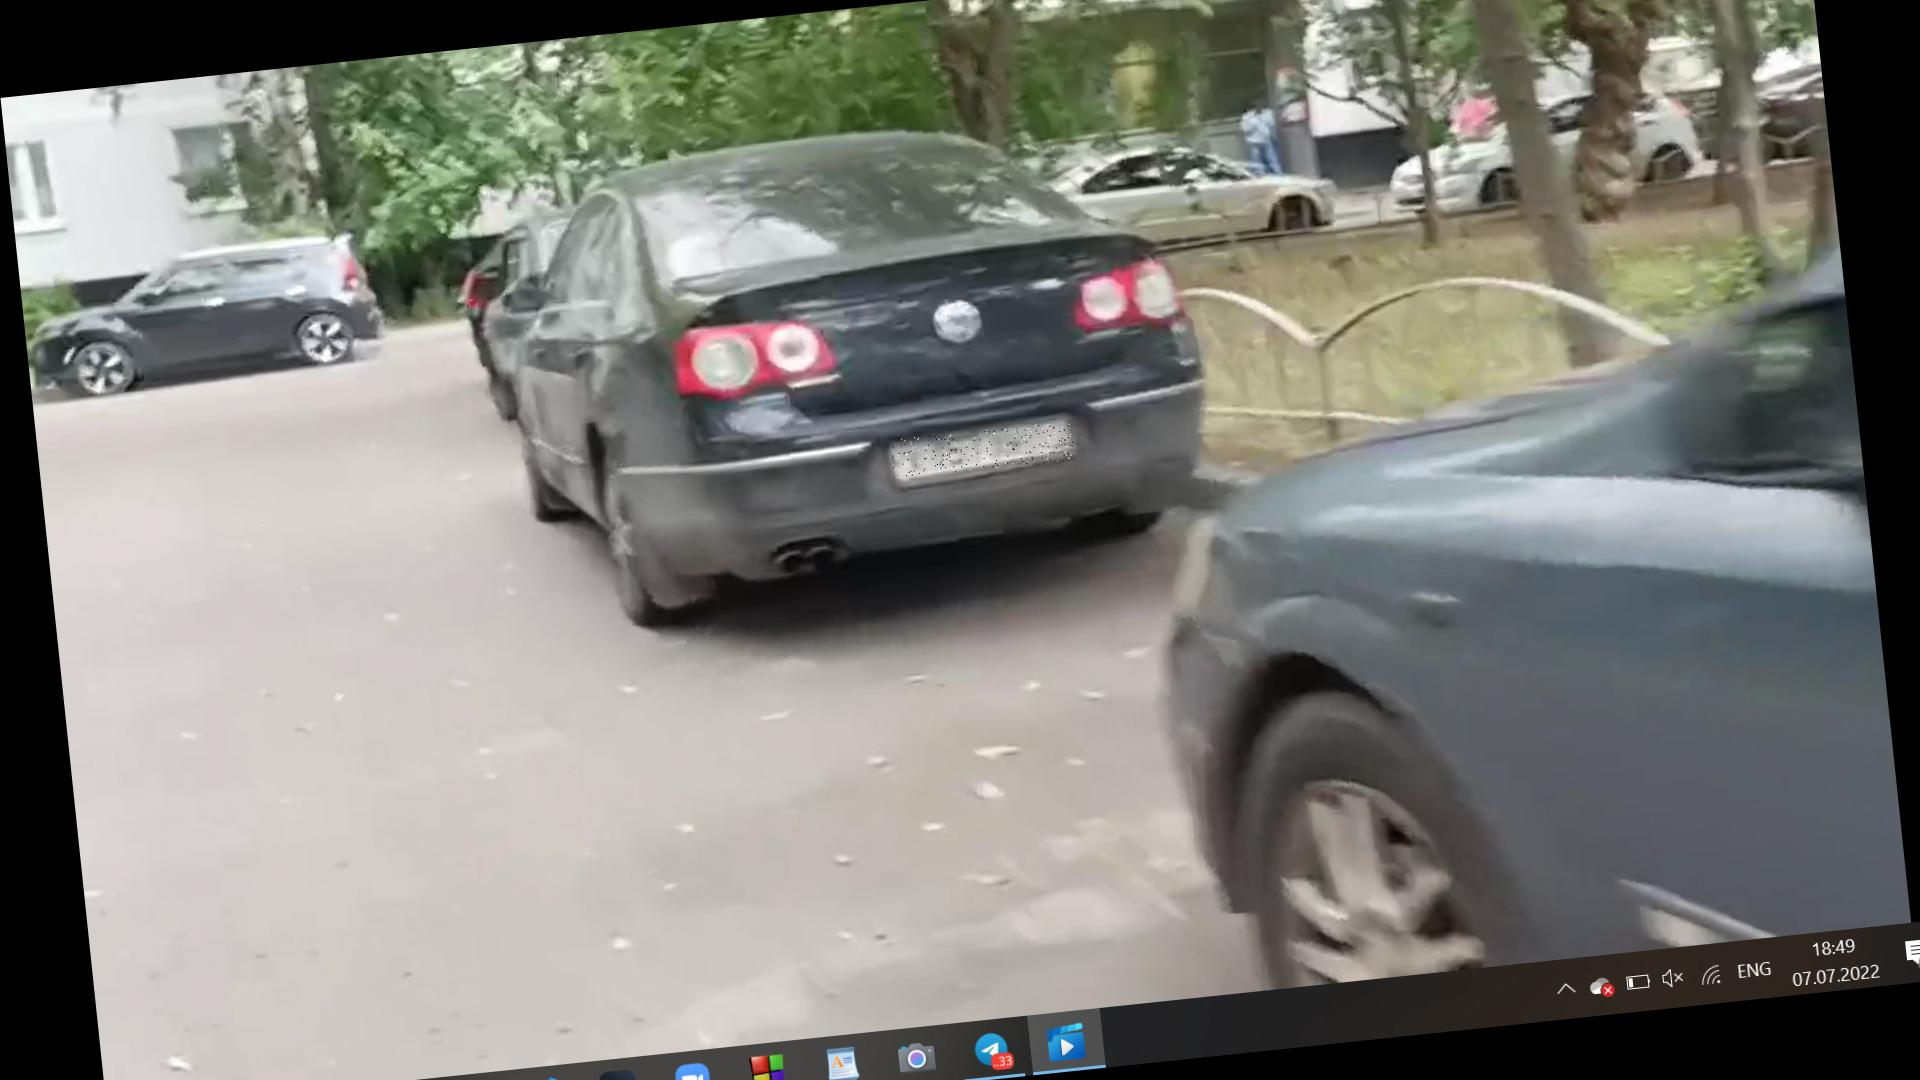plate: (891, 422, 1076, 480)
